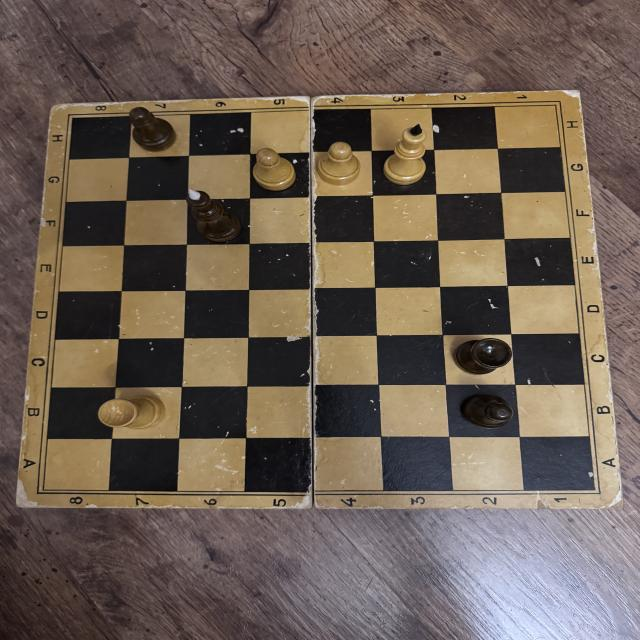black-king: (185, 187, 241, 244)
black-pawn: (128, 106, 178, 152), (461, 391, 513, 431)
black-rook: (452, 338, 511, 376)
white-king: (382, 121, 429, 186)
white-pawn: (252, 147, 297, 192), (318, 141, 361, 186)
white-rook: (95, 394, 167, 431)
